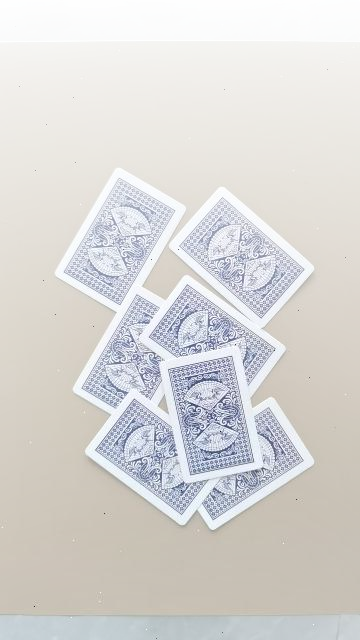card: (169, 188, 314, 327), (55, 168, 185, 311), (85, 390, 218, 525), (140, 276, 285, 395), (198, 398, 314, 530), (160, 346, 261, 482), (72, 285, 164, 414)
